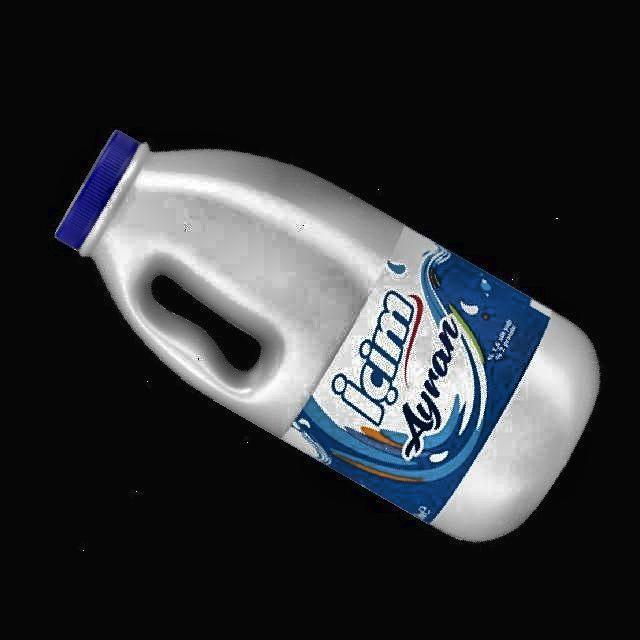plastic: (56, 131, 599, 541)
